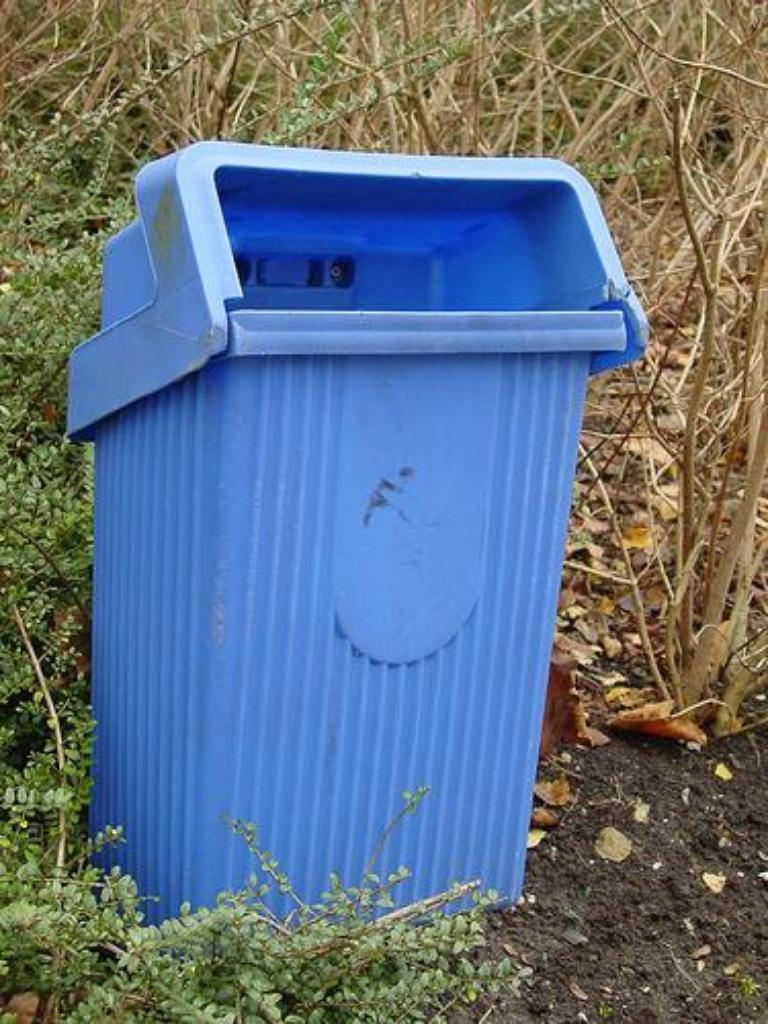dustbin: (72, 132, 644, 921)
